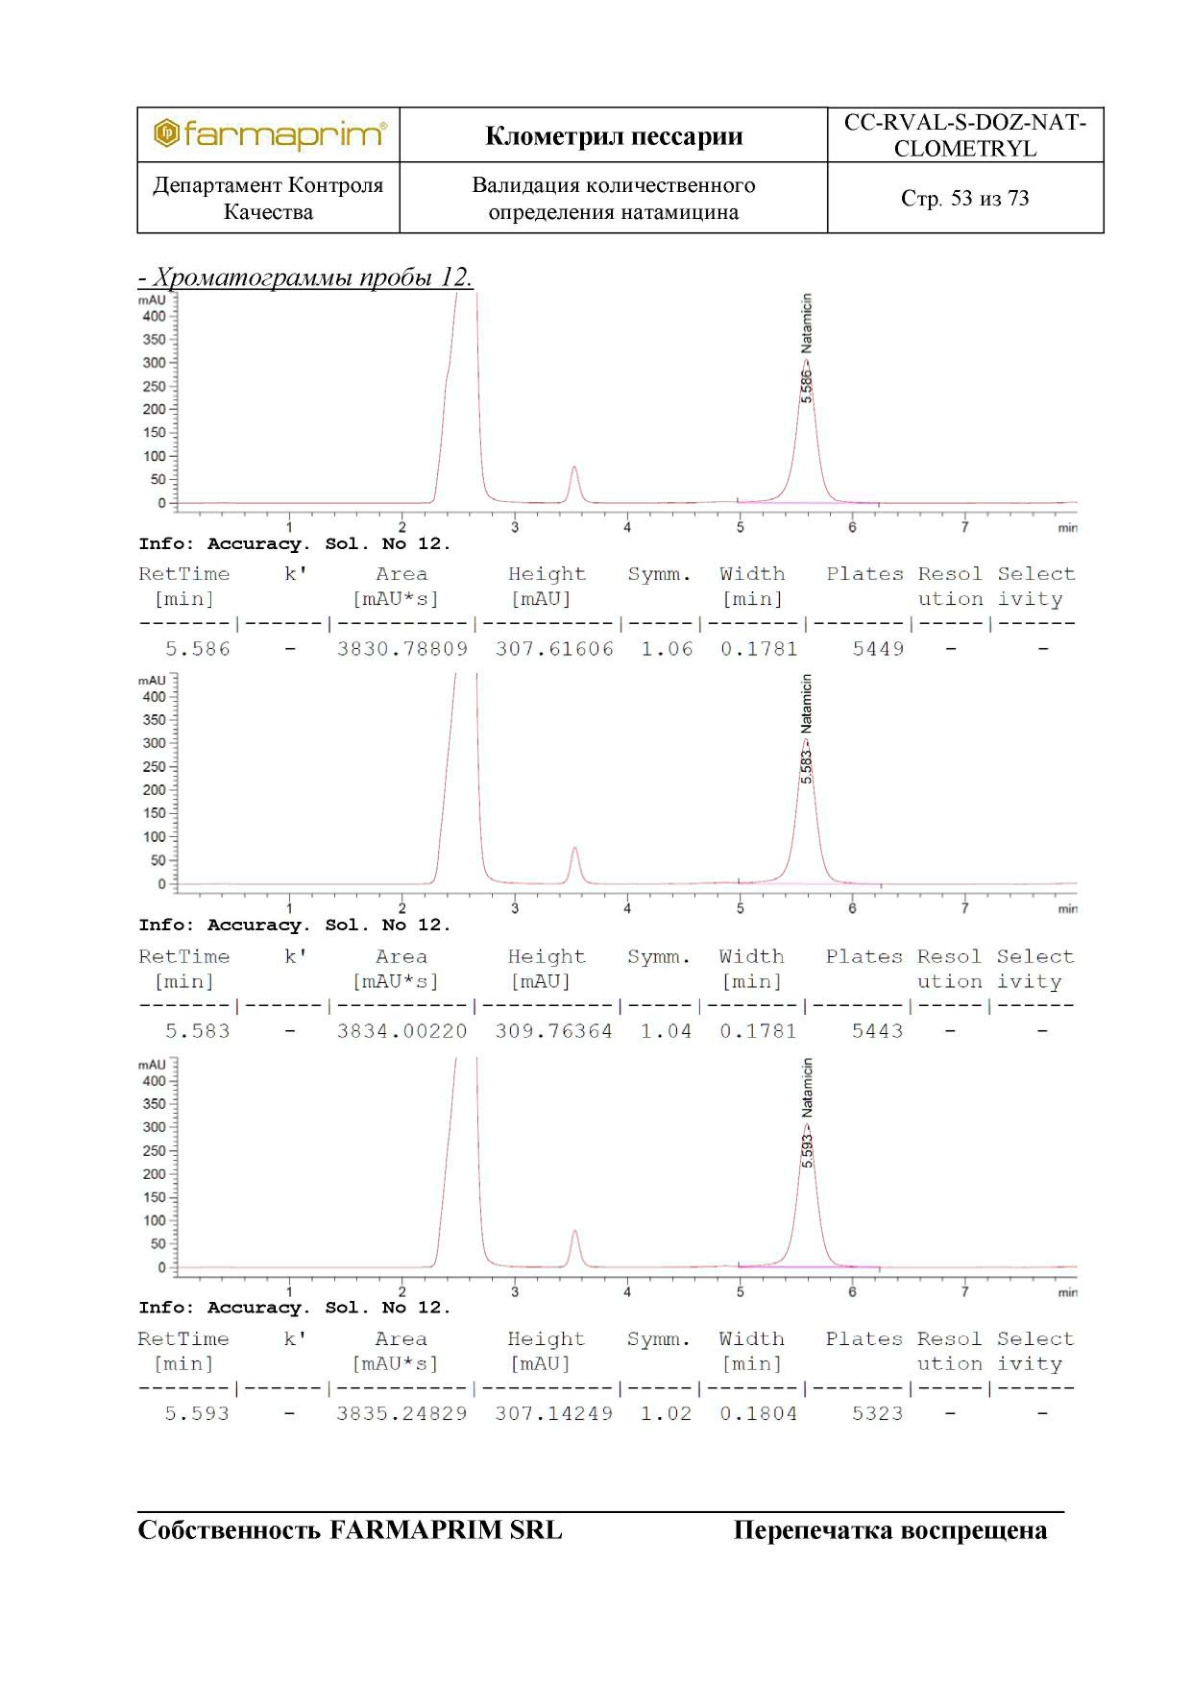full_lined: (135, 106, 1106, 235)
partial_lined: (133, 1326, 1078, 1431), (134, 562, 1084, 665), (135, 944, 1078, 1044)
